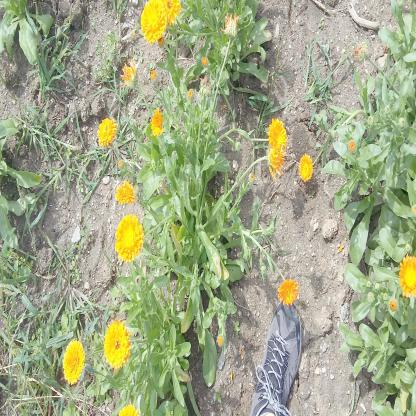marigold: (115, 213, 144, 262), (104, 321, 131, 368), (140, 0, 166, 37), (63, 339, 85, 382), (399, 255, 416, 295), (268, 117, 288, 147), (163, 0, 183, 24), (98, 119, 117, 143), (116, 178, 134, 203), (281, 279, 298, 304), (298, 155, 313, 181), (151, 110, 164, 134)
